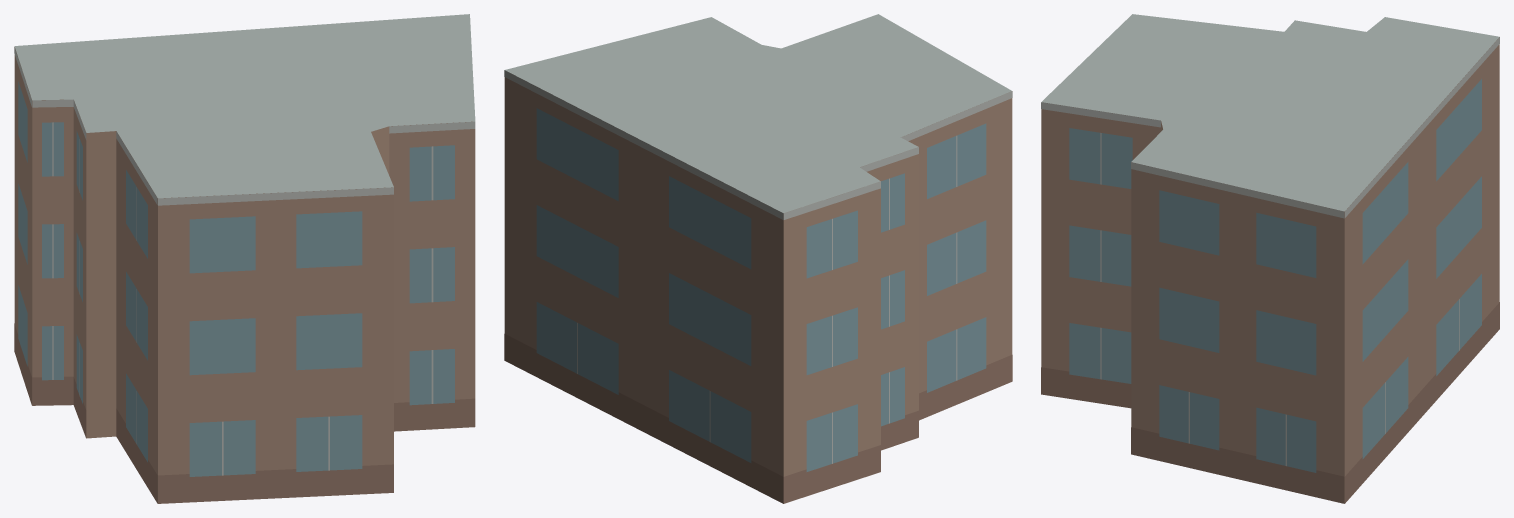
Rendered from survey-upis-32961662.glb.
3 renders of one model, left to right at view 1: azimuth 30°, elevation 25°; view 2: azimuth 150°, elevation 25°; view 3: azimuth 270°, elevation 25°, orthographic. The views are drawn at different scales.
Parts seen in each view (by area): view 1: survey-upis-32961662.tmp; view 2: survey-upis-32961662.tmp; view 3: survey-upis-32961662.tmp.
Part boxes in pixels (<box>): survey-upis-32961662.tmp: <box>14,14,475,503</box>; survey-upis-32961662.tmp: <box>504,14,1012,503</box>; survey-upis-32961662.tmp: <box>1041,14,1499,503</box>.
Size of the model in its own units: 14.79 by 10.2 by 14.51.
